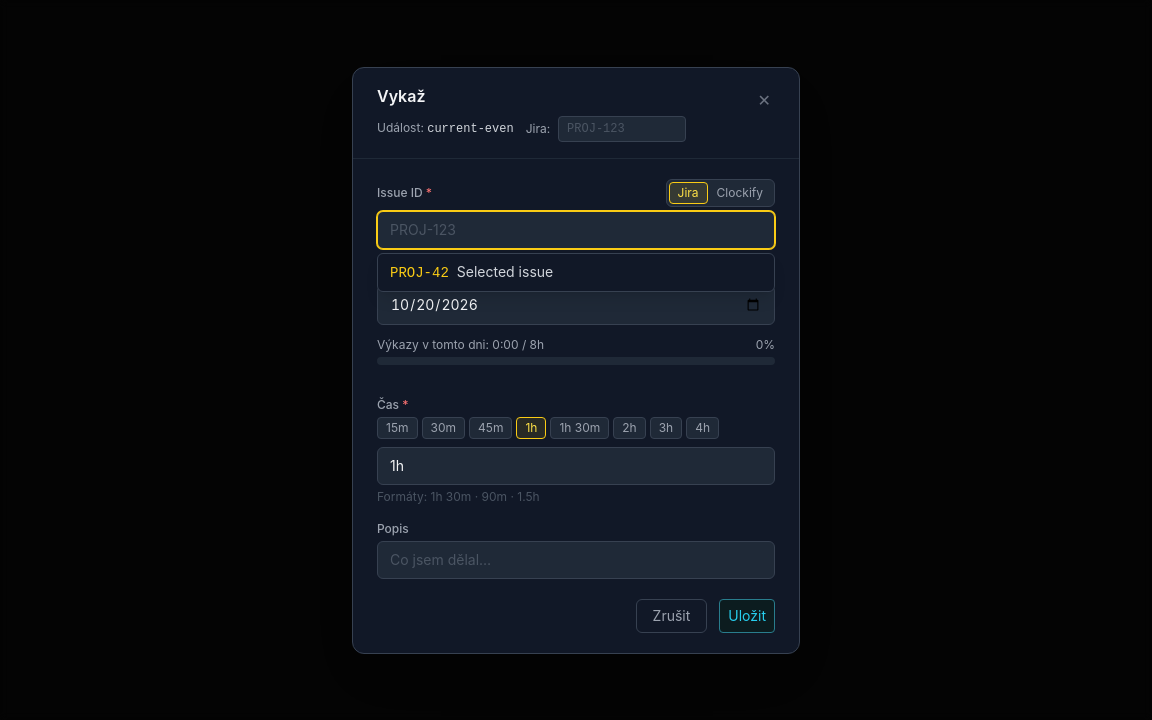
Scenario: calendar binding header › synchronizes manual edits in both directions without saving
In the field labelled "Jira:": coordinates (622, 128) [558,116,686,142], type "PROJ-7"
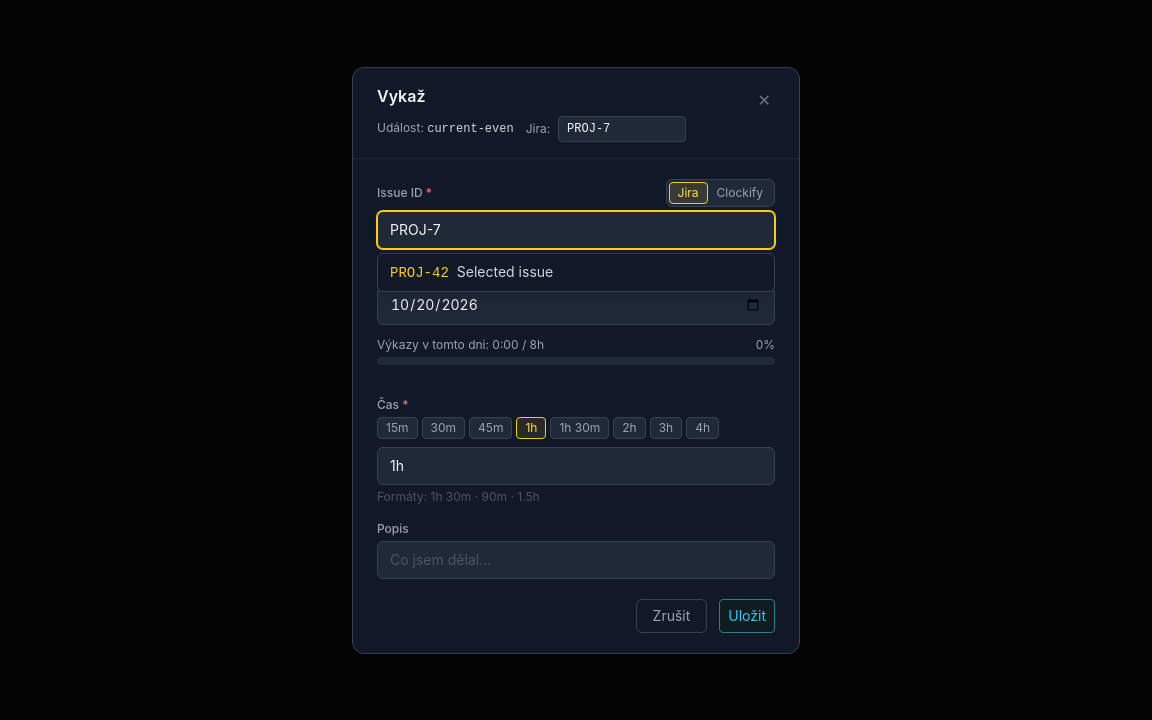
Expected: the 2nd field holds "PROJ-7"
Replace the text in the 2nd field with "PROJ-8": coordinates (576, 230) [377,210,775,248]
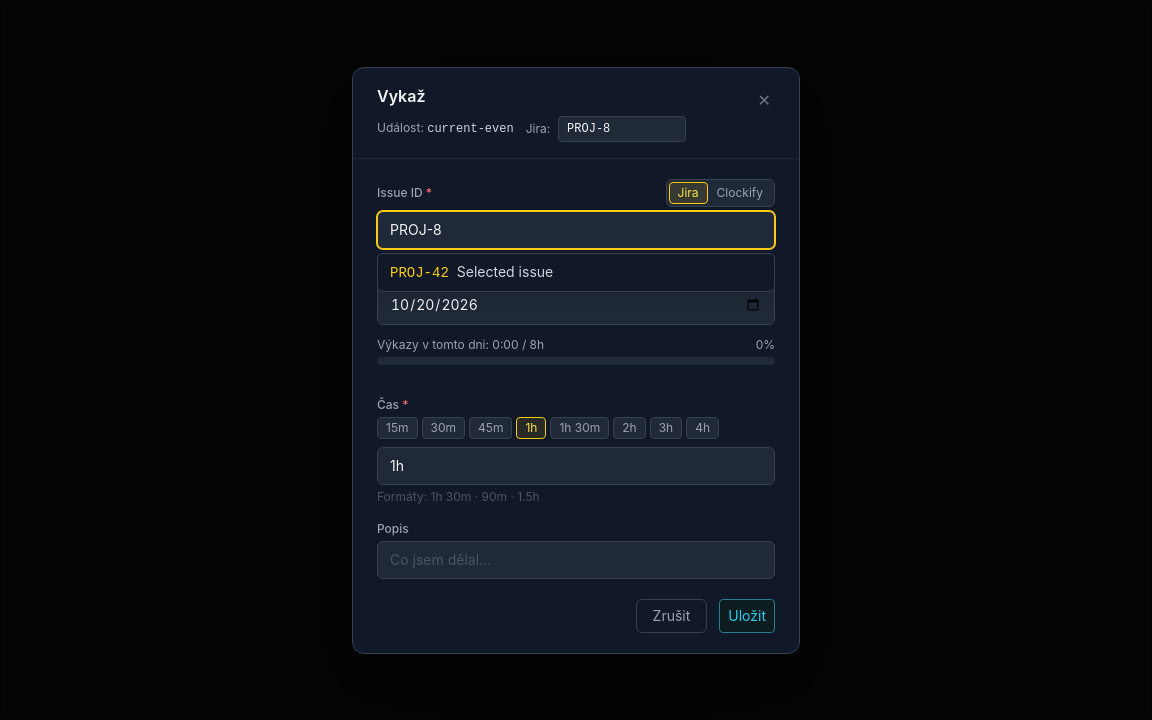
Expected: the field labelled "Jira:" holds "PROJ-8", [558,116,686,142]
